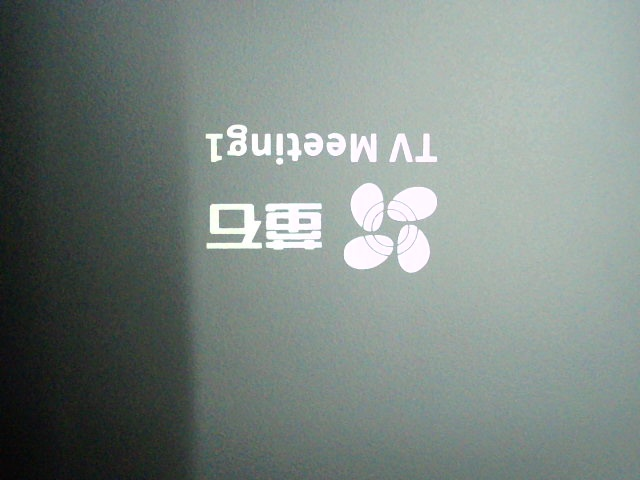BA_Yingshi: (195, 124, 445, 277)
